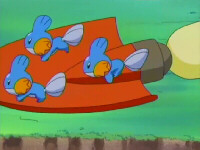mudkip: (76, 37, 150, 84), (3, 54, 64, 105), (21, 15, 83, 62)
